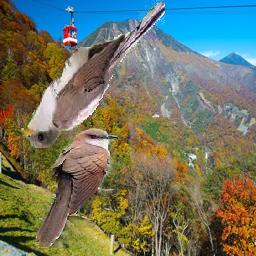Cuckoo: (15, 0, 165, 148), (34, 128, 118, 248)
